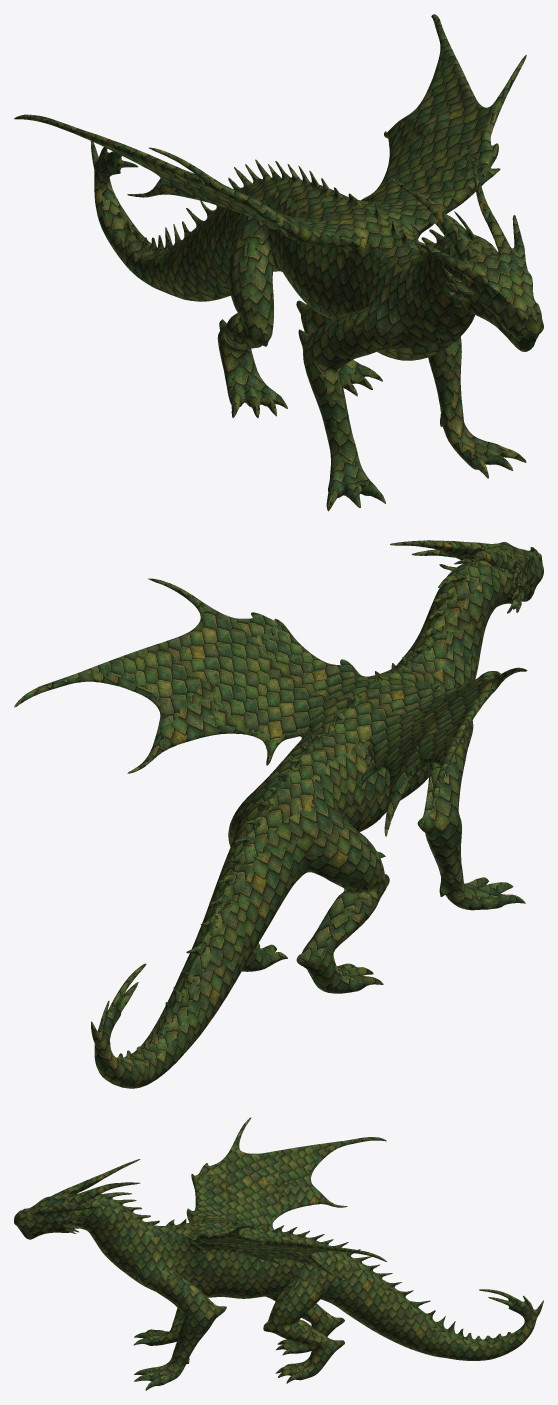
File: verdant_dragon_textured.glb
3 renders of one model, top to bottom at view 1: azimuth 30°, elevation 25°; view 2: azimuth 150°, elevation 25°; view 3: azimuth 270°, elevation 25°, orthographic. The views are drawn at different scales.
Visible parts, largest first — view 1: mesh_node; view 2: mesh_node; view 3: mesh_node.
Boxes of the visible parts, x1=… form: mesh_node: x1=14, y1=14, x2=543, y2=511; mesh_node: x1=14, y1=540, x2=543, y2=1088; mesh_node: x1=14, y1=1117, x2=543, y2=1390.
Bounding box in the file's own units: 1.03 × 0.7567 × 1.9.
Materials: 1 (1 with a texture image).
